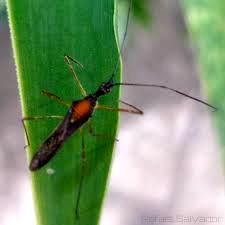Helopeltis-insect: (24, 68, 122, 175)
